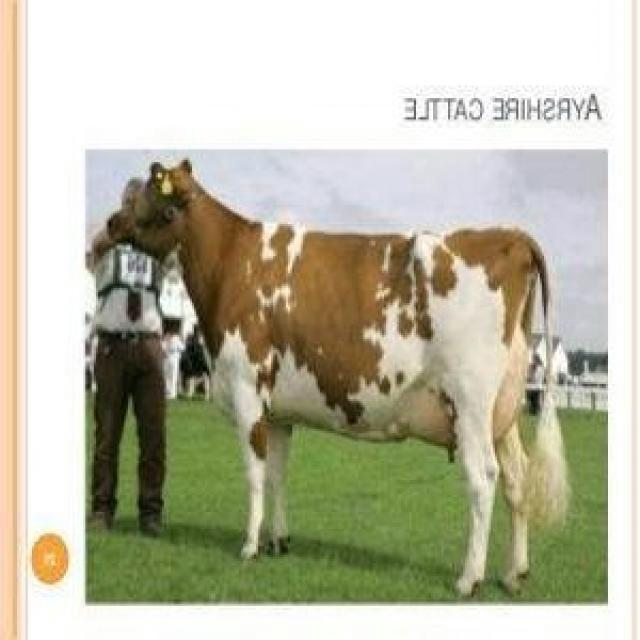cow: (108, 161, 566, 595)
